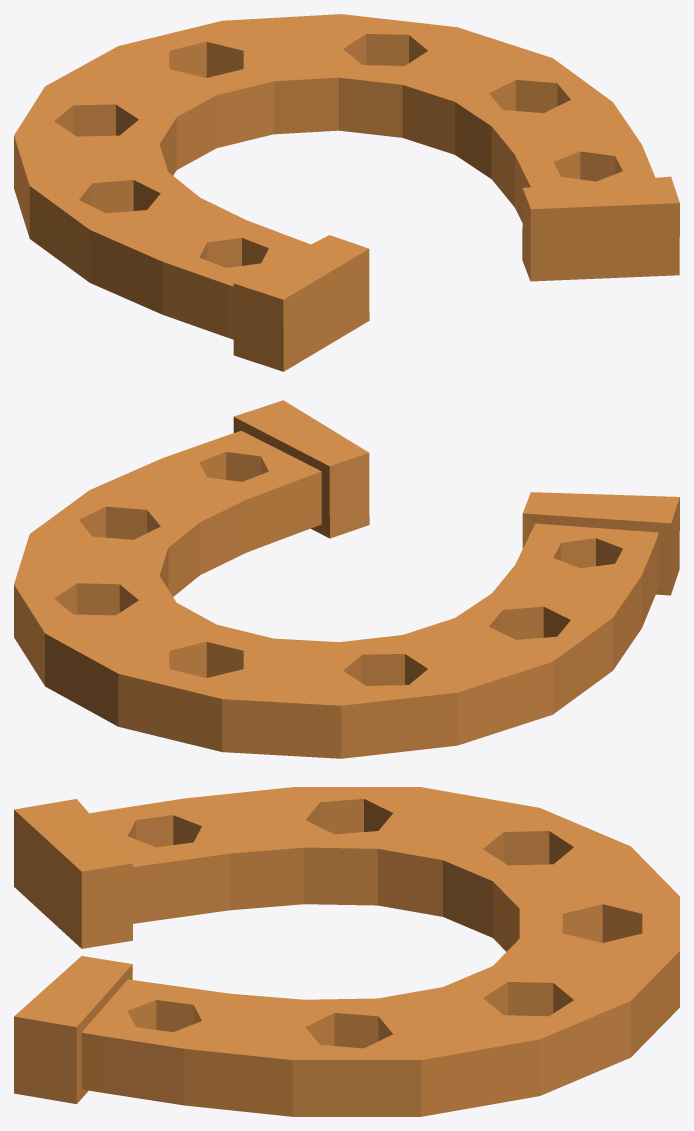
File: HorseShoe.fbx
3 renders of one model, top to bottom at view 1: azimuth 30°, elevation 25°; view 2: azimuth 150°, elevation 25°; view 3: azimuth 270°, elevation 25°, orthographic. The views are drawn at different scales.
Visible parts, largest first — view 1: Circle.031; view 2: Circle.031; view 3: Circle.031.
Part boxes in pixels (x1,y1,x2,y2): Circle.031: (14, 14, 679, 371); Circle.031: (14, 400, 679, 758); Circle.031: (14, 787, 679, 1116).
Bounding box in the file's own units: 61.31 × 8.16 × 63.2.
